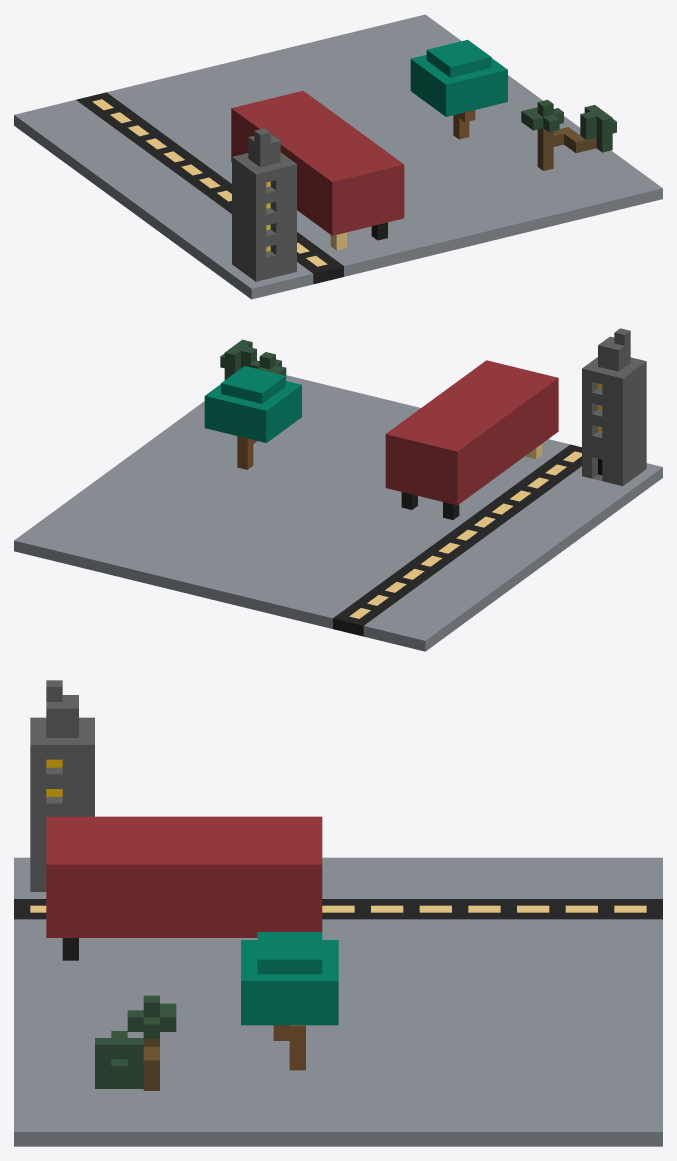
Rendered from city.obj.
The picture shows the model from 3 angles, top to bottom: view 1: azimuth 30°, elevation 25°; view 2: azimuth 150°, elevation 25°; view 3: azimuth 270°, elevation 25°; orthographic projection. The views are drawn at different scales.
Bounding box in the file's own units: 40 × 14 × 40.
1 material, 1 textured.
